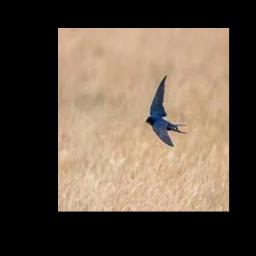Swallow: (146, 75, 186, 146)
